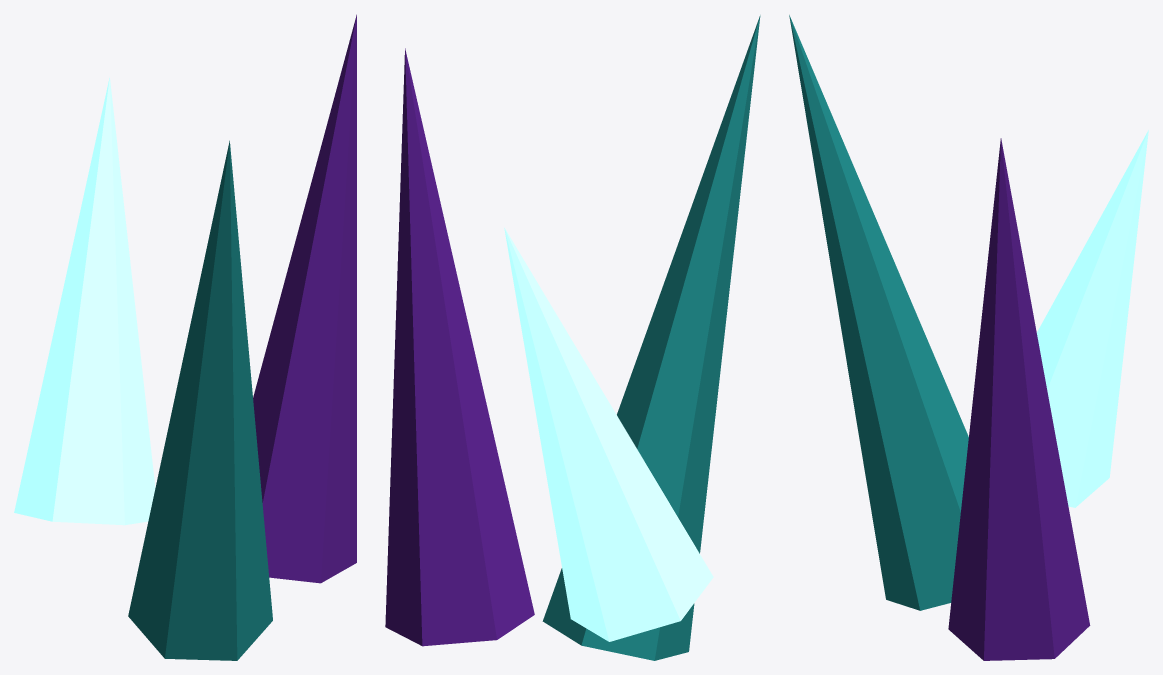
File: Prop_OR_Crystal_00.glb
The picture shows the model from 3 angles, left to right: view 1: azimuth 30°, elevation 25°; view 2: azimuth 150°, elevation 25°; view 3: azimuth 270°, elevation 25°; orthographic projection. The views are drawn at different scales.
Visible parts, largest first — view 1: Prop_OR_Crystal_00; view 2: Prop_OR_Crystal_00; view 3: Prop_OR_Crystal_00.
Boxes of the visible parts, bbox=[...] form: Prop_OR_Crystal_00: bbox=[14, 14, 356, 660]; Prop_OR_Crystal_00: bbox=[385, 15, 760, 660]; Prop_OR_Crystal_00: bbox=[789, 15, 1148, 660].
Size of the model in its own units: 0.6061 by 1.09 by 0.6338.
